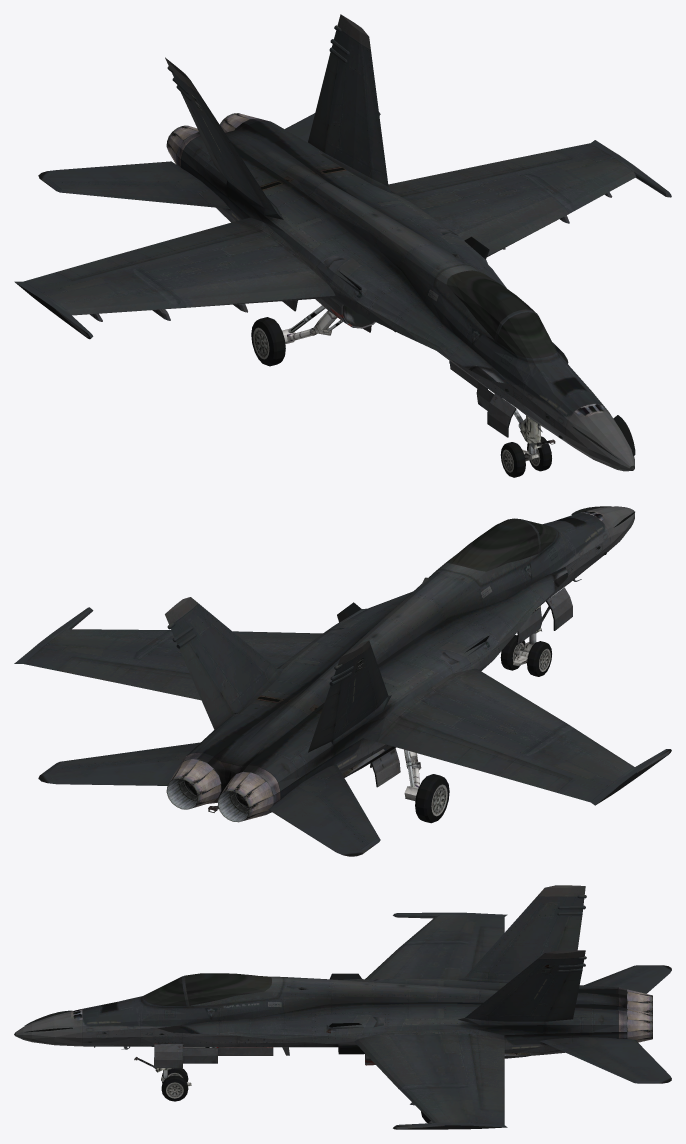
The picture shows the model from 3 angles, top to bottom: view 1: azimuth 30°, elevation 25°; view 2: azimuth 150°, elevation 25°; view 3: azimuth 270°, elevation 25°; orthographic projection. The views are drawn at different scales.
Parts seen in each view (by area): view 1: 战机10; view 2: 战机10; view 3: 战机10.
Boxes of the visible parts, x1,y1,x2,y2 form: 战机10: (14, 14, 671, 477); 战机10: (14, 506, 671, 856); 战机10: (14, 885, 671, 1129).
Bounding box in the file's own units: 6.29 × 2.45 × 8.22.
1 material, 1 textured.
